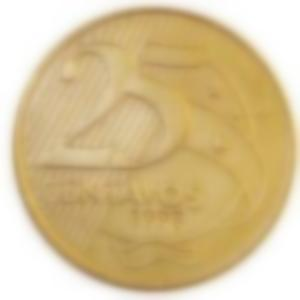25 cent: (11, 5, 296, 290)
